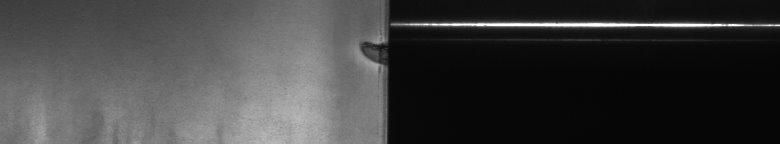hb: (352, 34, 376, 71)
